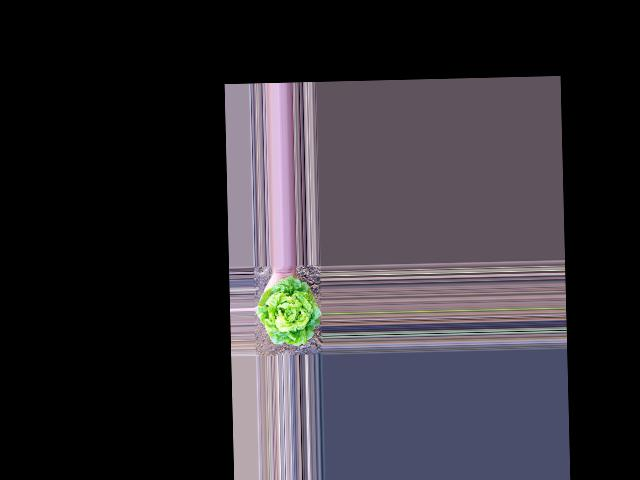lettuce: (257, 280, 320, 347)
